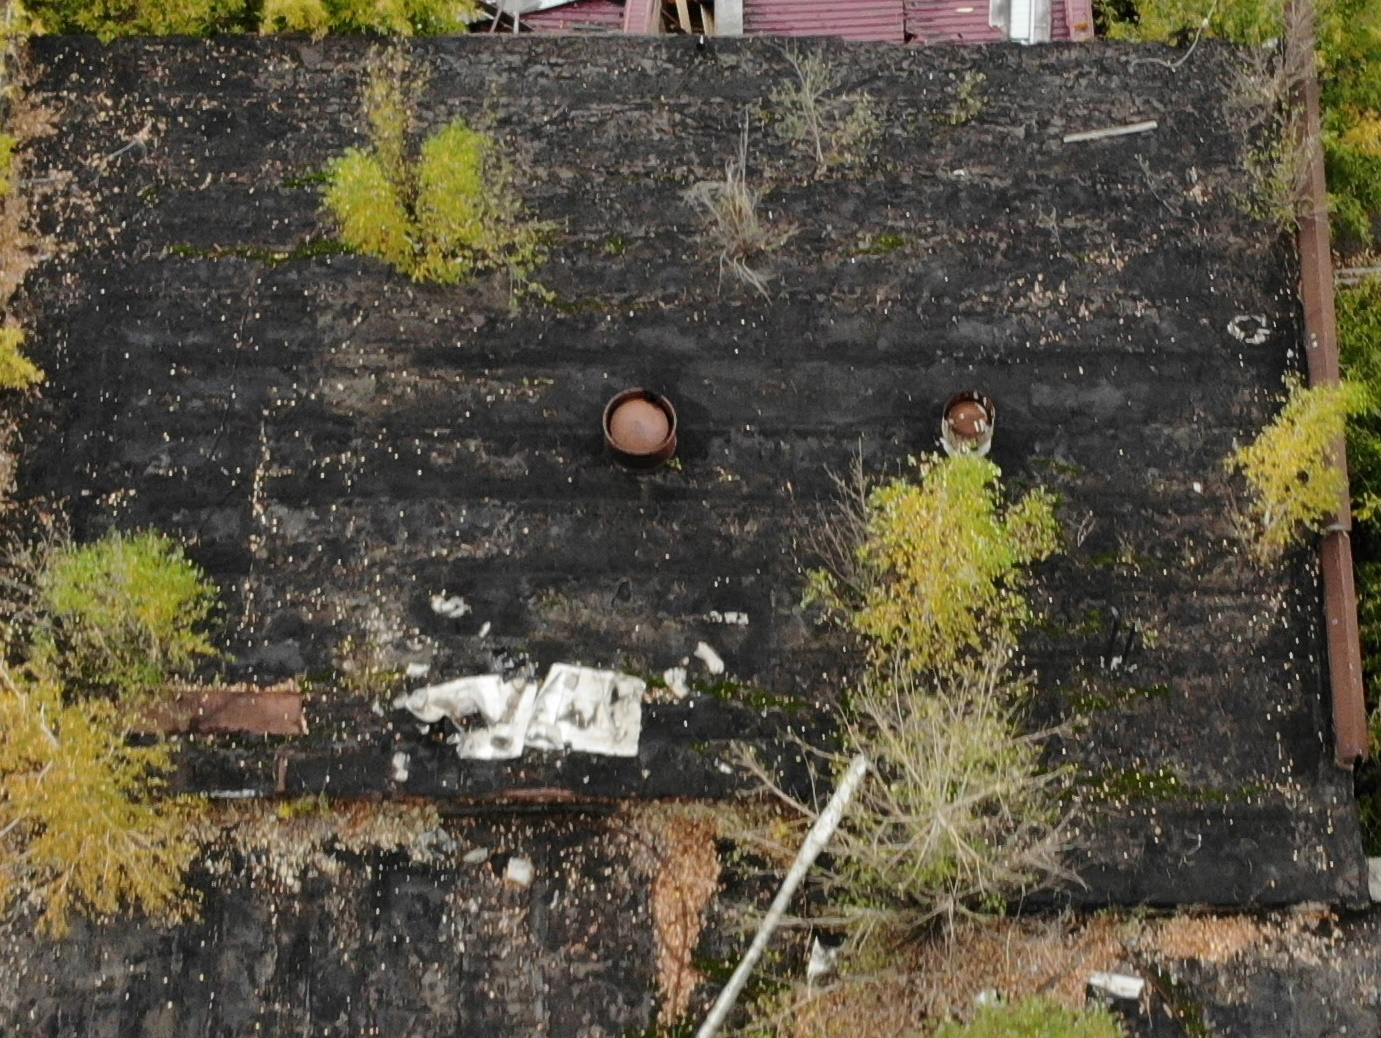tree: (740, 641, 1090, 978), (251, 52, 558, 329), (829, 400, 1062, 678), (7, 665, 222, 929), (43, 514, 234, 716), (1211, 362, 1371, 587), (1213, 43, 1342, 240), (762, 44, 896, 200), (682, 145, 794, 310)
